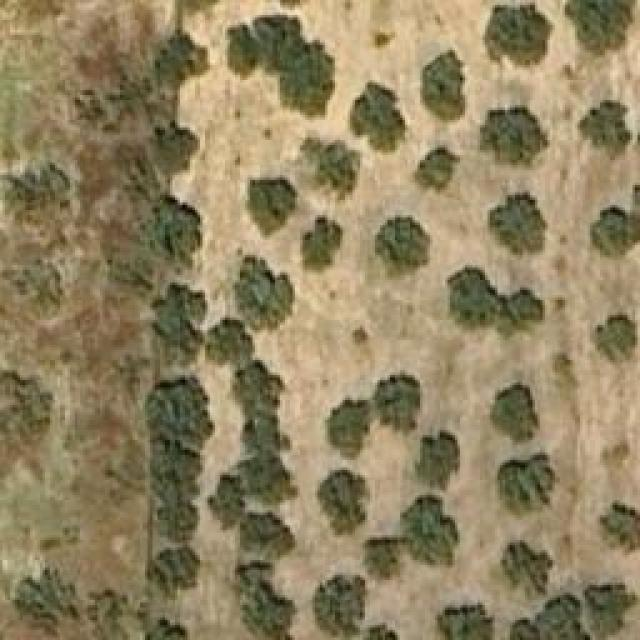Tree: (448, 265, 543, 330), (150, 283, 213, 368), (12, 565, 80, 640), (235, 560, 298, 640), (233, 255, 296, 333), (145, 375, 215, 445), (0, 160, 72, 227), (278, 40, 338, 118), (495, 448, 560, 518), (400, 492, 458, 570), (140, 193, 200, 266), (565, 0, 638, 58), (480, 107, 548, 165), (312, 572, 370, 640), (0, 367, 50, 445), (353, 83, 408, 153), (488, 5, 551, 65), (300, 138, 360, 201), (372, 218, 430, 281), (5, 253, 60, 316), (490, 195, 545, 255), (578, 100, 633, 160), (317, 467, 365, 535), (490, 385, 540, 448), (423, 50, 466, 120), (510, 597, 580, 640), (235, 510, 293, 560), (585, 585, 638, 638), (85, 585, 138, 638), (375, 373, 420, 433), (503, 543, 553, 596), (590, 208, 640, 261), (148, 448, 198, 501), (247, 180, 295, 235), (415, 430, 460, 488), (255, 15, 298, 75), (328, 400, 371, 458), (152, 545, 200, 595), (590, 315, 638, 365), (438, 602, 498, 640), (597, 499, 640, 552), (245, 455, 290, 503), (153, 120, 196, 170), (155, 30, 195, 83), (303, 218, 343, 271), (210, 465, 245, 525), (205, 318, 253, 361), (233, 360, 273, 410), (415, 148, 458, 193), (220, 25, 258, 73), (363, 535, 403, 580), (160, 503, 200, 546), (242, 415, 280, 453), (150, 617, 187, 640)
